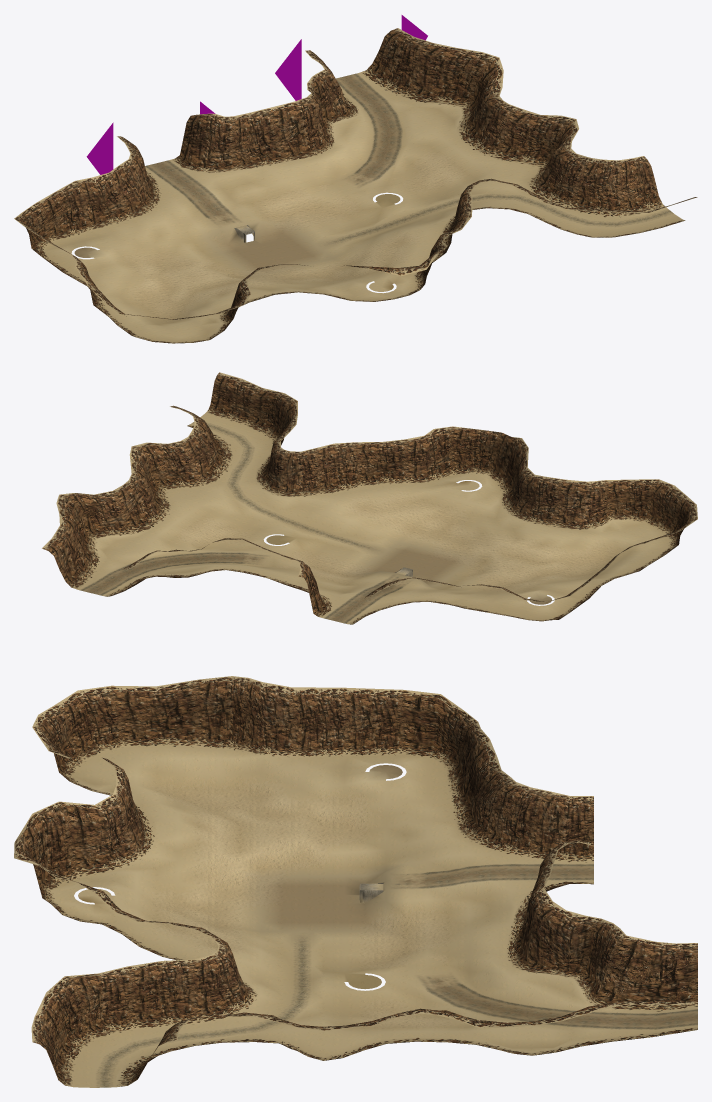
The model's file is Mission8_Zone04.glb.
3 views of the same model, one above another, from view 1: azimuth 30°, elevation 25°; view 2: azimuth 150°, elevation 25°; view 3: azimuth 270°, elevation 25° (orthographic). The views are drawn at different scales.
Parts seen in each view (by area): view 1: MISSION8_ZONE04228, MISSION8_ZONE04227, MISSION8_ZONE04226, MISSION8_ZONE04063, MISSION8_ZONE04162, MISSION8_ZONE04246, MISSION8_ZONE04083, MISSION8_ZONE04225, MISSION8_ZONE04235, MISSION8_ZONE04239, MISSION8_ZONE04187, MISSION8_ZONE04186 (+51 smaller); view 2: MISSION8_ZONE04031, MISSION8_ZONE04030, MISSION8_ZONE04099, MISSION8_ZONE04014, MISSION8_ZONE04038, MISSION8_ZONE04220, MISSION8_ZONE04122, MISSION8_ZONE04005, MISSION8_ZONE04020, MISSION8_ZONE04058, MISSION8_ZONE04078, MISSION8_ZONE04006 (+70 smaller); view 3: MISSION8_ZONE04065, MISSION8_ZONE04060, MISSION8_ZONE04026, MISSION8_ZONE04254, MISSION8_ZONE04045, MISSION8_ZONE04081, MISSION8_ZONE04222, MISSION8_ZONE04249, MISSION8_ZONE04016, MISSION8_ZONE04012, MISSION8_ZONE04022, MISSION8_ZONE04145 (+142 smaller).
Part boxes in pixels (x1,y1,x2,y2): MISSION8_ZONE04228: [267, 97, 318, 159]; MISSION8_ZONE04227: [247, 105, 301, 164]; MISSION8_ZONE04226: [217, 113, 262, 171]; MISSION8_ZONE04063: [605, 158, 645, 212]; MISSION8_ZONE04162: [496, 112, 544, 165]; MISSION8_ZONE04246: [412, 56, 467, 104]; MISSION8_ZONE04083: [556, 156, 607, 213]; MISSION8_ZONE04225: [196, 116, 237, 179]; MISSION8_ZONE04235: [456, 52, 503, 106]; MISSION8_ZONE04239: [180, 113, 222, 169]; MISSION8_ZONE04187: [66, 192, 110, 240]; MISSION8_ZONE04186: [41, 192, 84, 247]; MISSION8_ZONE04031: [531, 476, 586, 527]; MISSION8_ZONE04030: [555, 479, 610, 530]; MISSION8_ZONE04099: [277, 451, 321, 505]; MISSION8_ZONE04014: [599, 479, 652, 526]; MISSION8_ZONE04038: [357, 439, 408, 484]; MISSION8_ZONE04220: [91, 494, 136, 540]; MISSION8_ZONE04122: [165, 445, 204, 488]; MISSION8_ZONE04005: [472, 430, 511, 482]; MISSION8_ZONE04020: [405, 429, 452, 479]; MISSION8_ZONE04058: [335, 442, 380, 488]; MISSION8_ZONE04078: [318, 447, 361, 497]; MISSION8_ZONE04006: [452, 426, 480, 473]; MISSION8_ZONE04065: [157, 676, 232, 747]; MISSION8_ZONE04060: [128, 961, 199, 1029]; MISSION8_ZONE04026: [78, 685, 160, 747]; MISSION8_ZONE04254: [624, 938, 697, 1011]; MISSION8_ZONE04045: [116, 679, 199, 747]; MISSION8_ZONE04081: [163, 964, 248, 1031]; MISSION8_ZONE04222: [505, 782, 566, 853]; MISSION8_ZONE04249: [593, 940, 651, 1012]; MISSION8_ZONE04016: [40, 801, 114, 873]; MISSION8_ZONE04012: [47, 697, 105, 768]; MISSION8_ZONE04022: [46, 976, 109, 1048]; MISSION8_ZONE04145: [344, 722, 405, 766].
Size of the model in its own units: 165 by 20 by 132.
27 materials, 26 textured.
